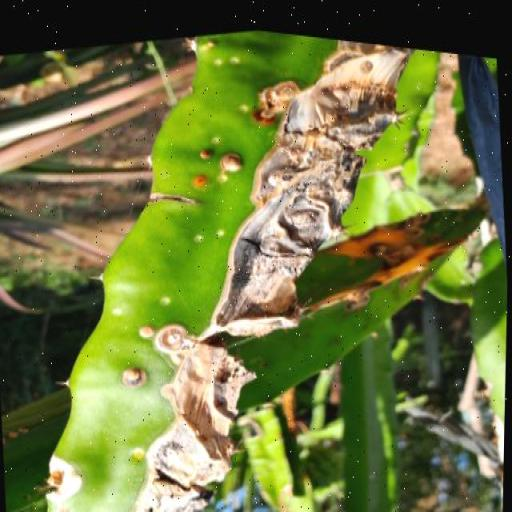stemcanker: (184, 216, 230, 257), (210, 43, 244, 83), (153, 275, 176, 323), (238, 97, 251, 128)
